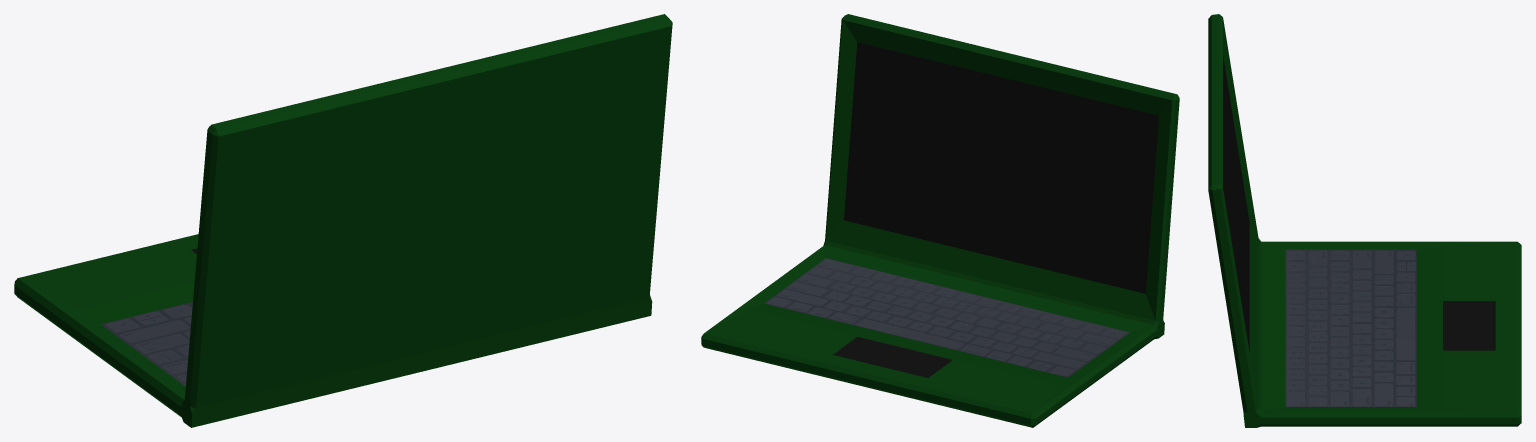
The model's file is Laptop 2.glb.
3 renders of one model, left to right at view 1: azimuth 30°, elevation 25°; view 2: azimuth 150°, elevation 25°; view 3: azimuth 270°, elevation 25°, orthographic. The views are drawn at different scales.
Parts seen in each view (by area): view 1: Plane; view 2: Plane; view 3: Plane.
Boxes of the visible parts, <box> form: Plane: <box>14,14,672,427</box>; Plane: <box>701,14,1179,427</box>; Plane: <box>1208,14,1521,427</box>.
Size of the model in its own units: 0.3694 by 0.2416 by 0.2833.
Materials: 3 (1 with a texture image).
